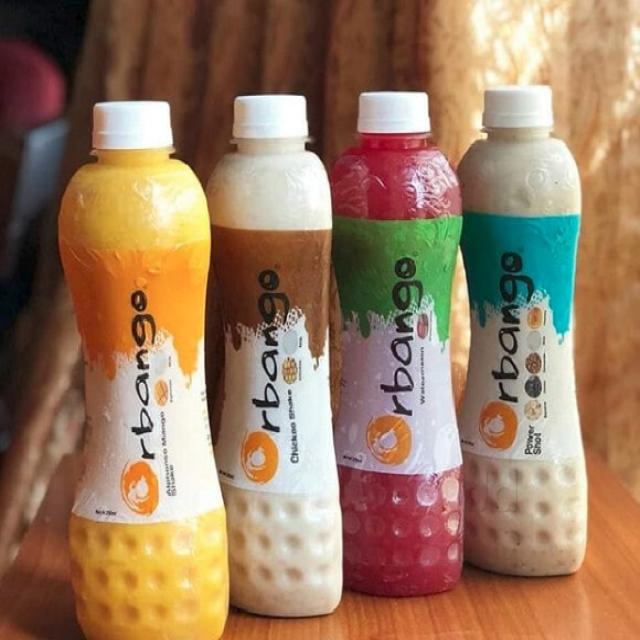plastic_bottle: (46, 78, 234, 640), (170, 58, 354, 601), (440, 33, 598, 564), (328, 73, 464, 640)
